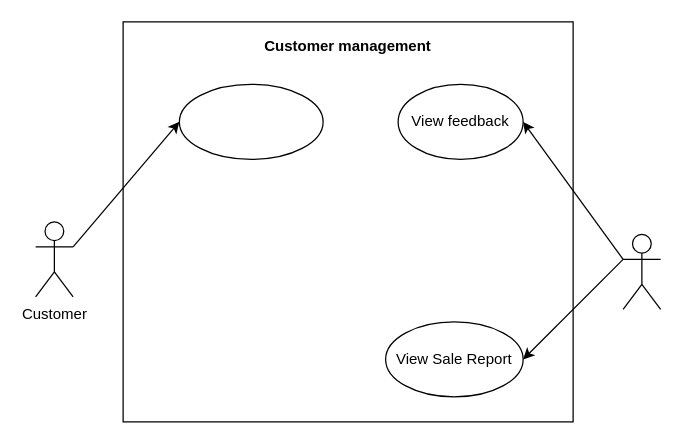
This 693x444 diagram has some shape labels left out. The shapes that lost their labels are listed below. From the top down, each one's box as (x1, y1, x2, y2) in pixels, then its label:
(178, 83, 323, 159): Send Feedback
(622, 233, 661, 309): Manager
